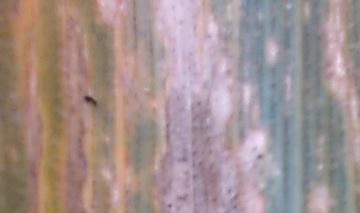tarspot: (82, 94, 98, 107), (256, 153, 264, 160), (167, 203, 173, 208)
